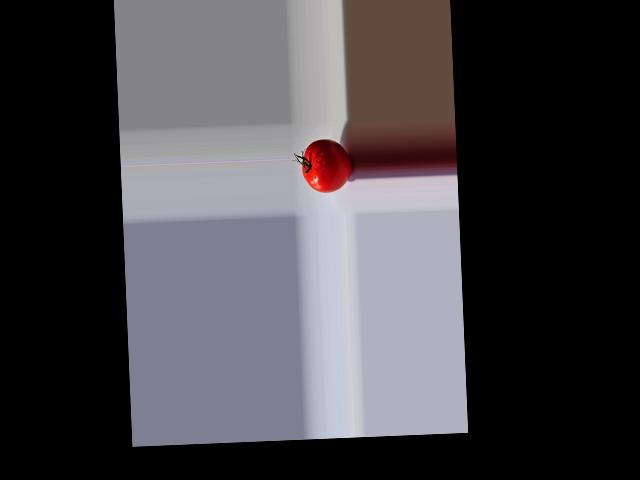tomato: (302, 138, 353, 193)
